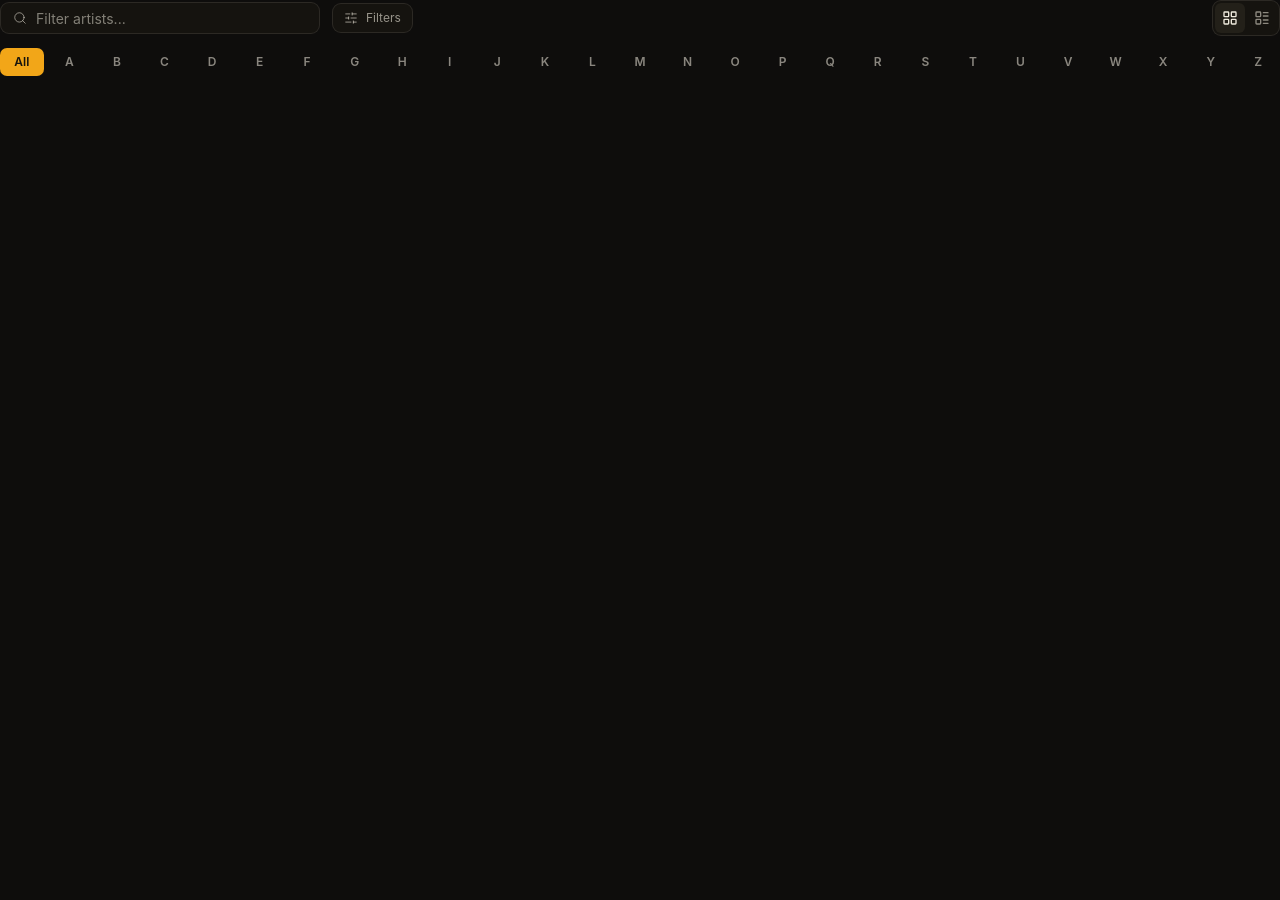
browse/Filters.vue › clicking the Filters button opens the sidebar
Click the button "Filters".
click(372, 18)  # box left=332, top=3, right=413, bottom=33
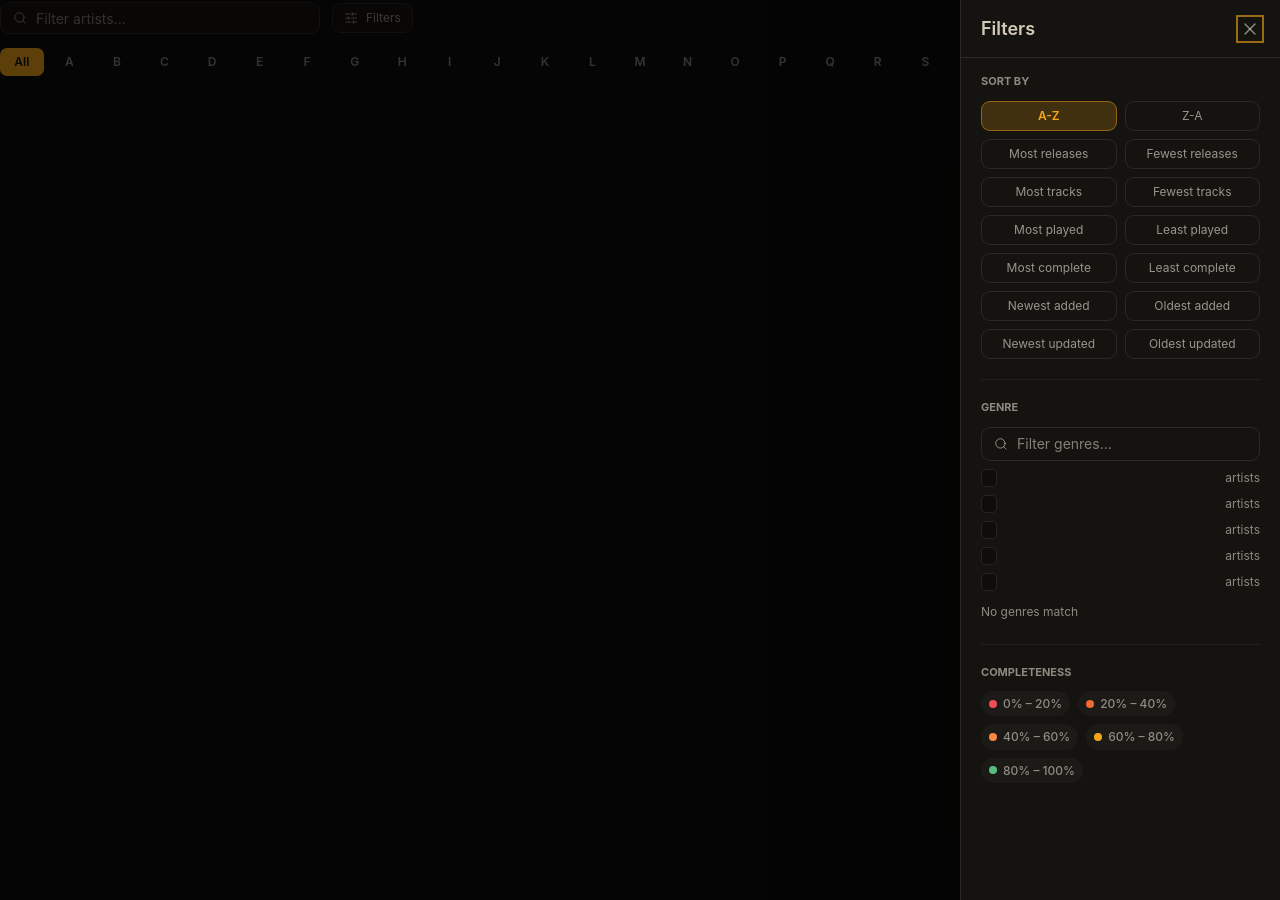
Result: the dialog is shown at left=960, top=0, right=1279, bottom=899
